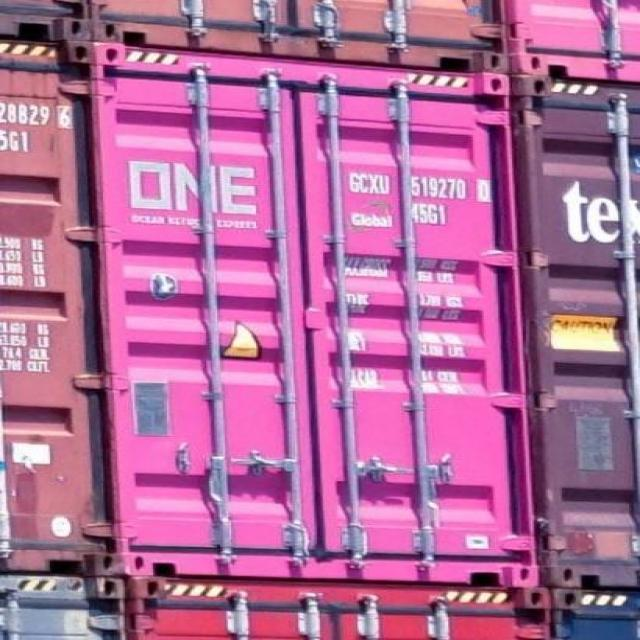ISO: (410, 202, 450, 224)
container_number: (353, 176, 491, 200)
